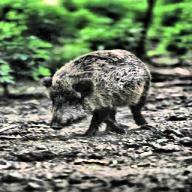boar: (41, 48, 151, 137)
